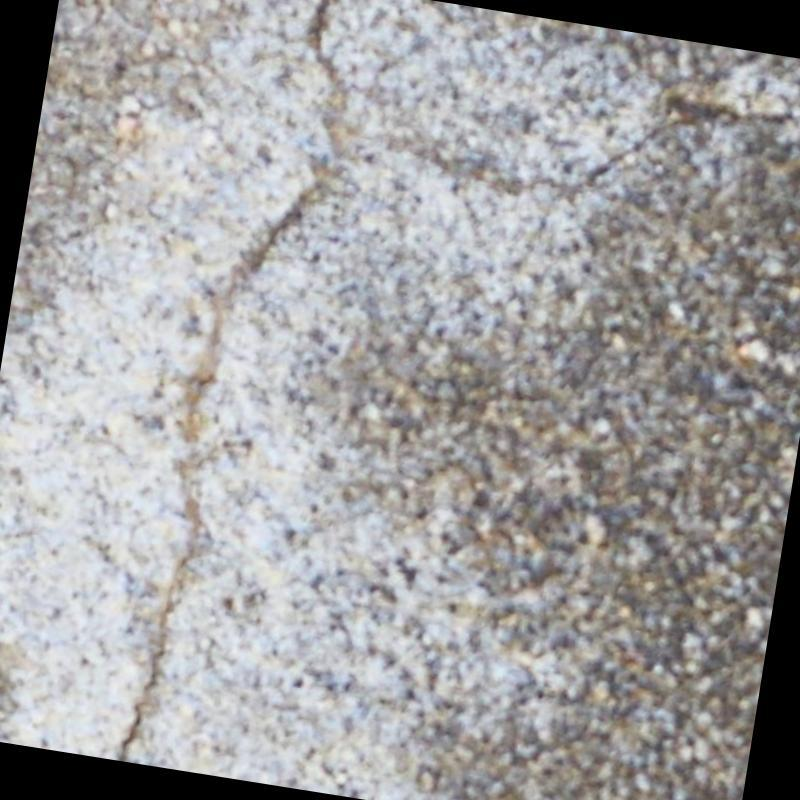pothole: (116, 0, 346, 761)
